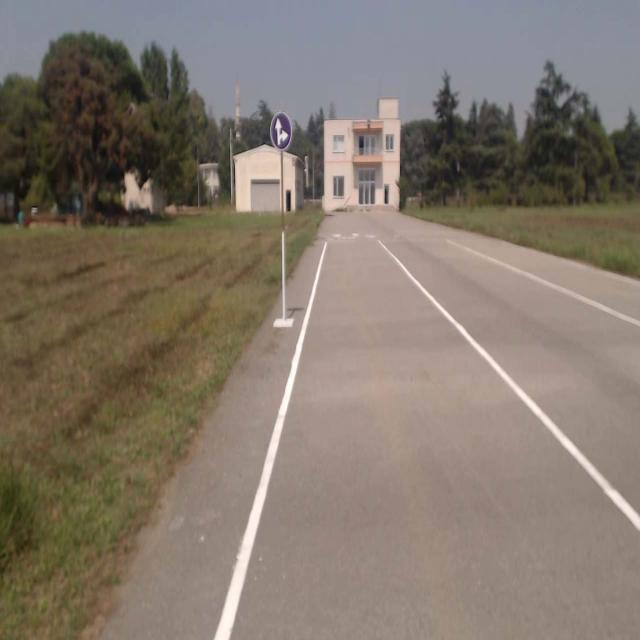ilerisag: (270, 112, 292, 150)
